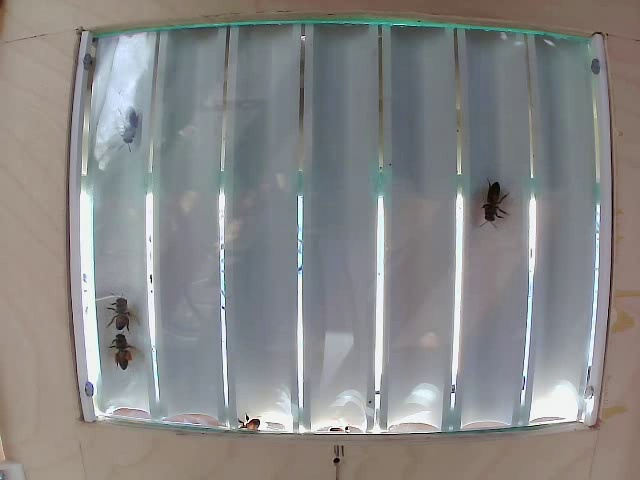bee: (473, 180, 511, 221), (101, 301, 143, 325), (110, 340, 137, 370)
